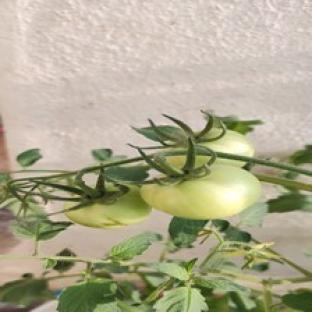Tomato: (141, 165, 261, 220), (65, 187, 151, 228), (198, 130, 254, 157)
